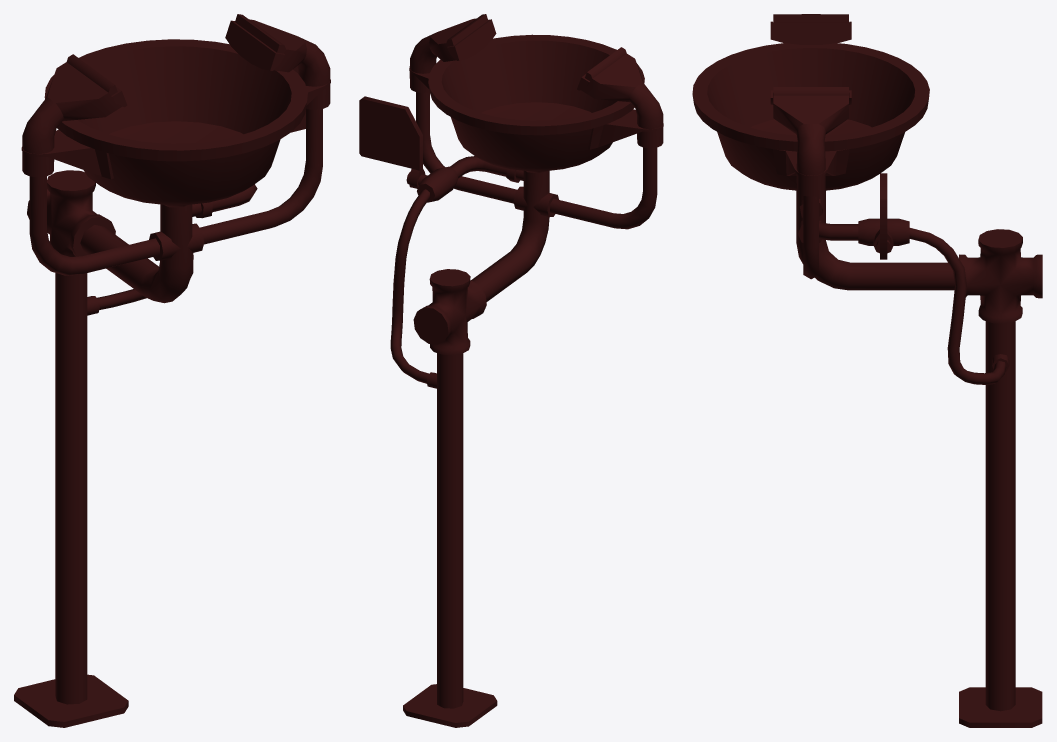
Rendered from eyeWasher.FBX.
3 renders of one model, left to right at view 1: azimuth 30°, elevation 25°; view 2: azimuth 150°, elevation 25°; view 3: azimuth 270°, elevation 25°, orthographic. The views are drawn at different scales.
Parts seen in each view (by area): view 1: SM_Eye_Wash_Station_01a; view 2: SM_Eye_Wash_Station_01a; view 3: SM_Eye_Wash_Station_01a.
Boxes of the visible parts, left/top/right/bottom form: SM_Eye_Wash_Station_01a: left=14, top=14, right=330, bottom=727; SM_Eye_Wash_Station_01a: left=359, top=14, right=663, bottom=727; SM_Eye_Wash_Station_01a: left=692, top=14, right=1042, bottom=727.
Bounding box in the file's own units: 57.02 × 122 × 58.77.
